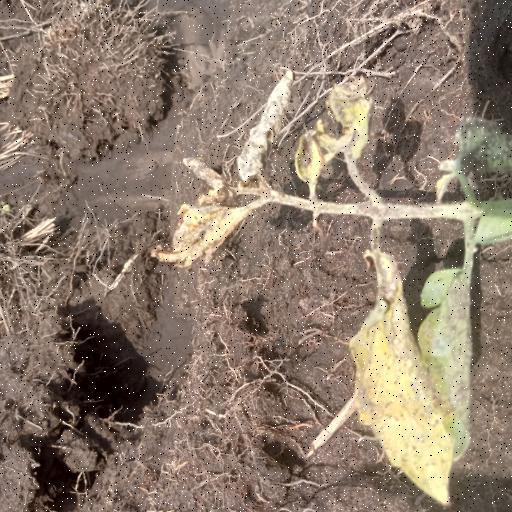Tomato_Brown_Spots: (350, 243, 470, 510)
